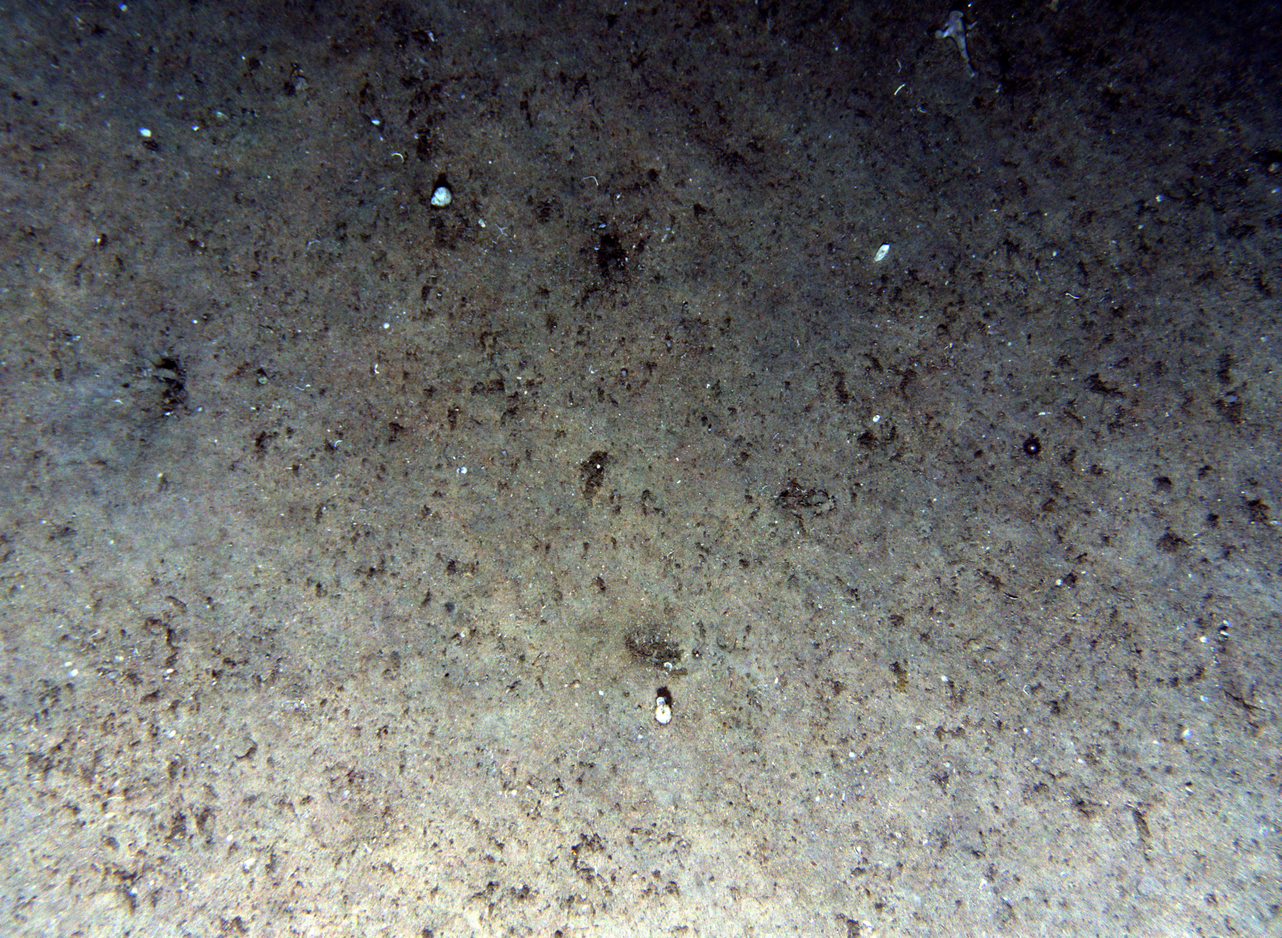Brachionichthyidae: (931, 8, 983, 80)
